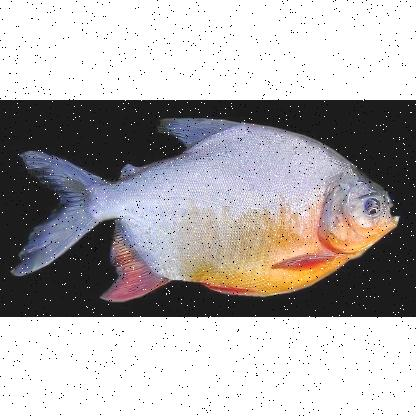ikan-pacu: (16, 113, 402, 302)
